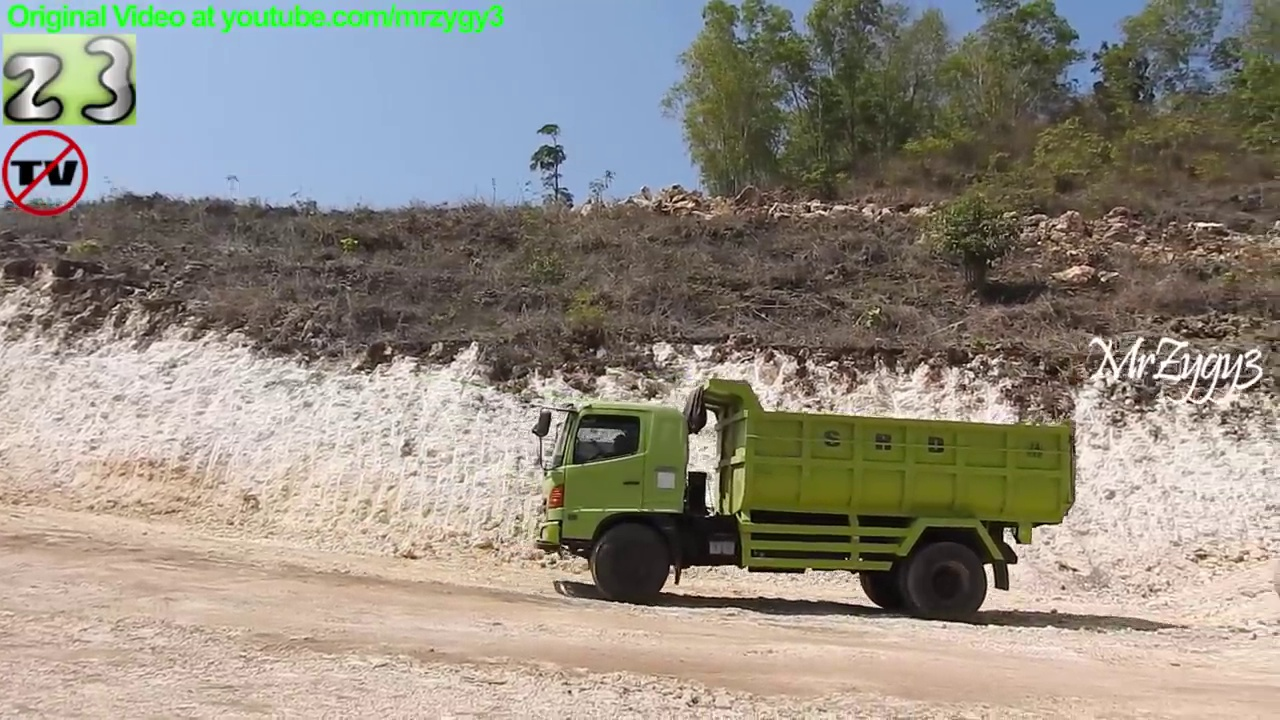truck: (524, 374, 1086, 624)
